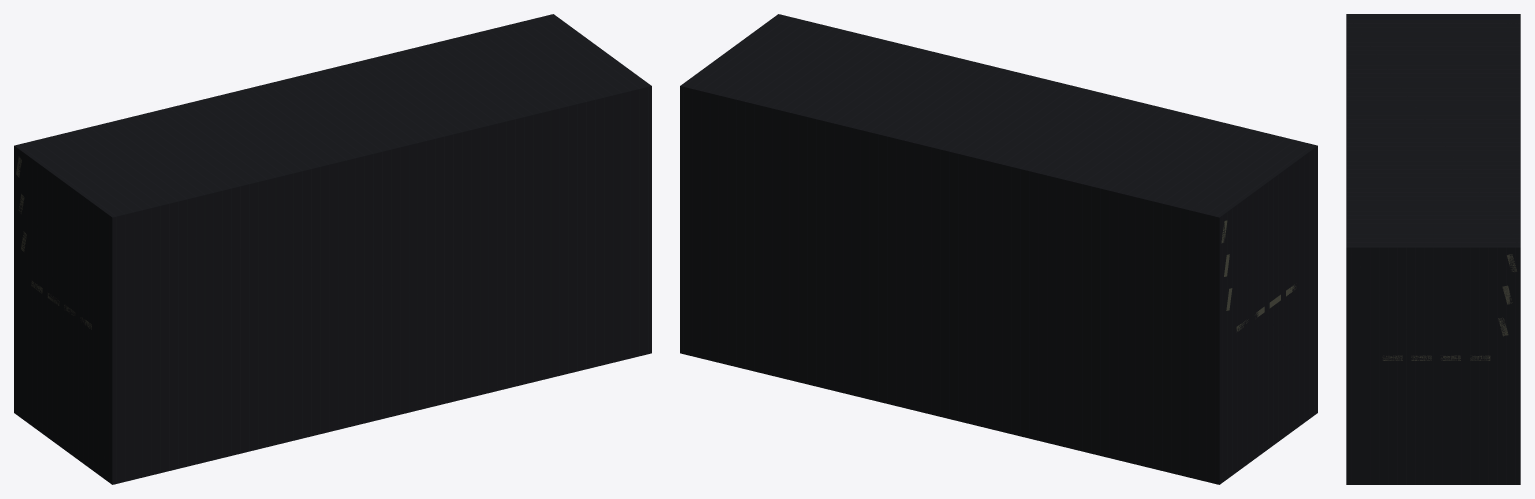
File: kit_bench.glb
3 views of the same model, side by side, from view 1: azimuth 30°, elevation 25°; view 2: azimuth 150°, elevation 25°; view 3: azimuth 270°, elevation 25° (orthographic). The views are drawn at different scales.
Visible parts, largest first — view 1: bn_COL; view 2: bn_COL; view 3: bn_COL.
Part boxes in pixels (x1,y1,x2,y2): bn_COL: [14, 14, 651, 484]; bn_COL: [680, 14, 1317, 484]; bn_COL: [1346, 14, 1520, 484].
Size of the model in its own units: 1.9 by 0.9 by 0.6.
2 materials, 2 textured.
